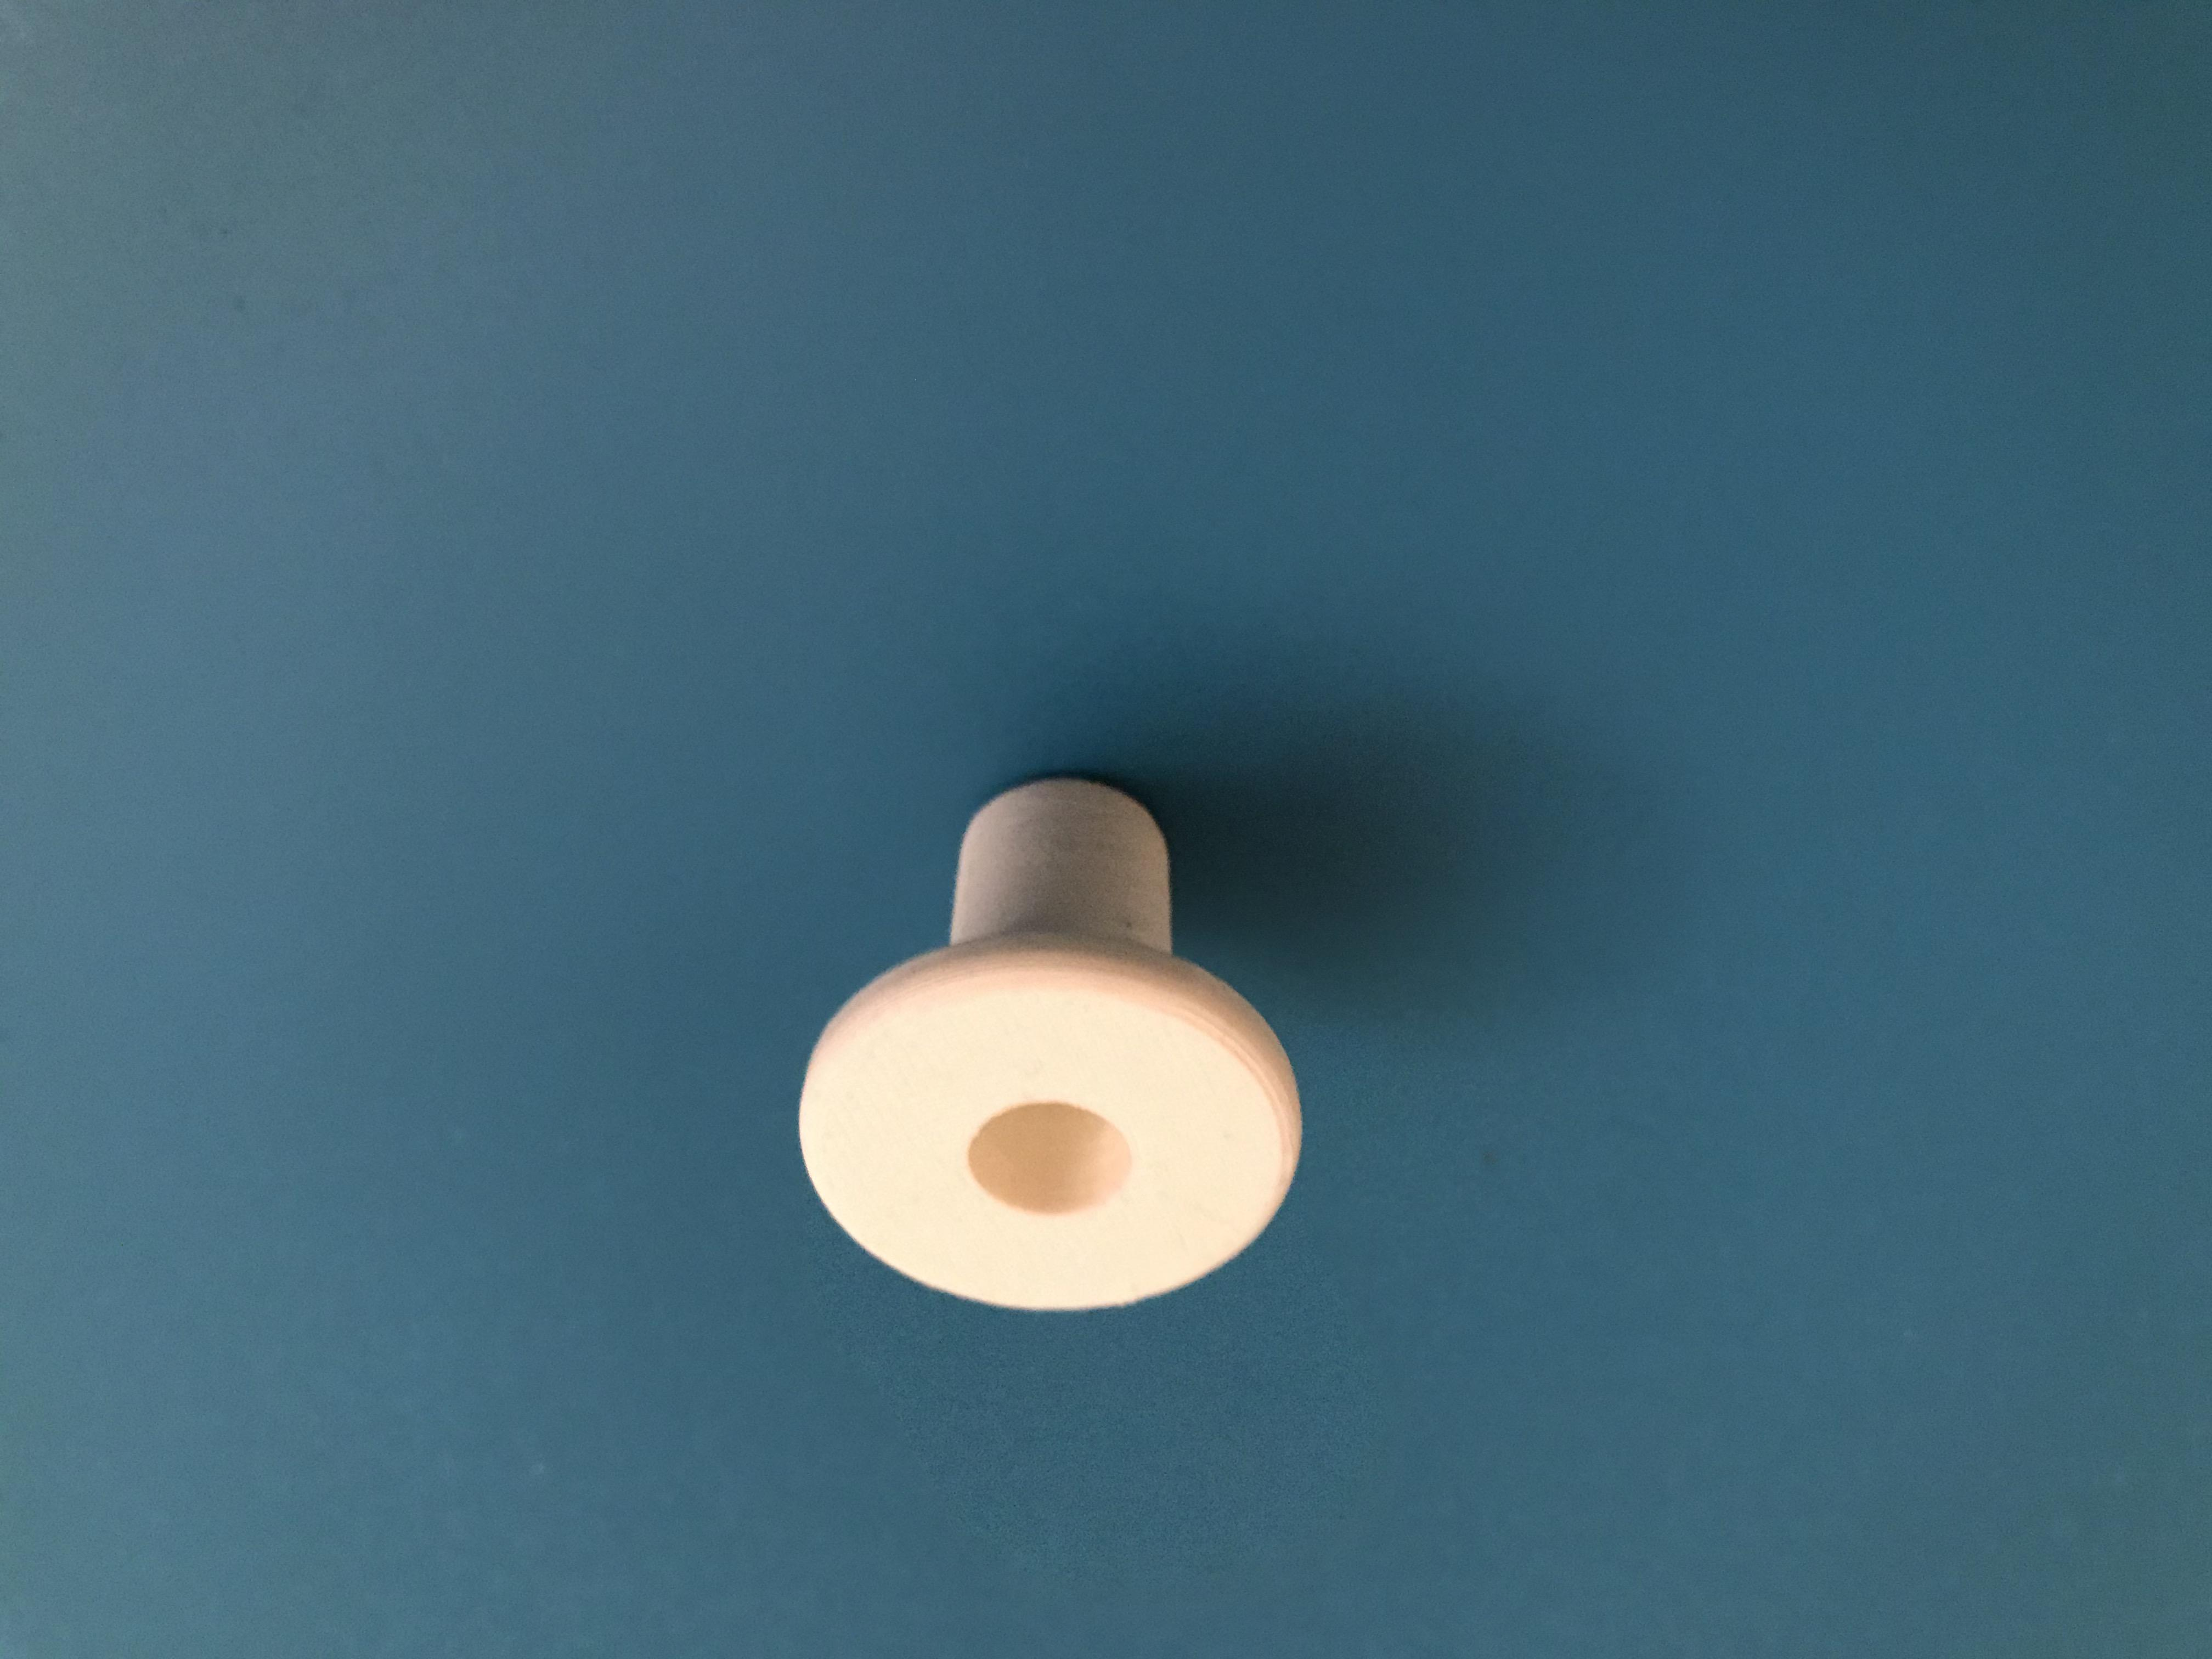White Cone: (780, 760, 1338, 1323)
